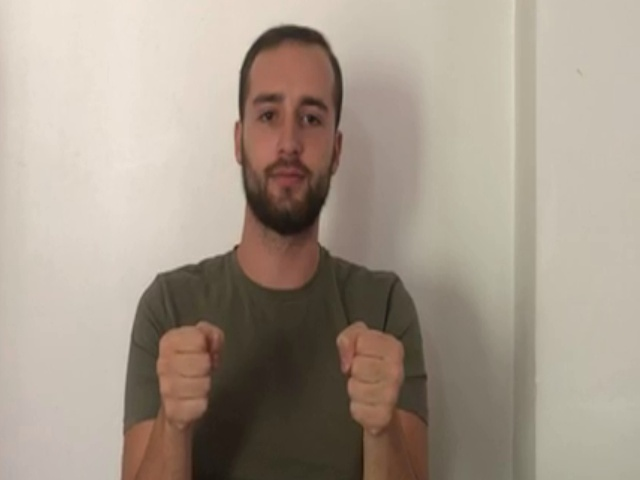Sili: (154, 315, 411, 441)
